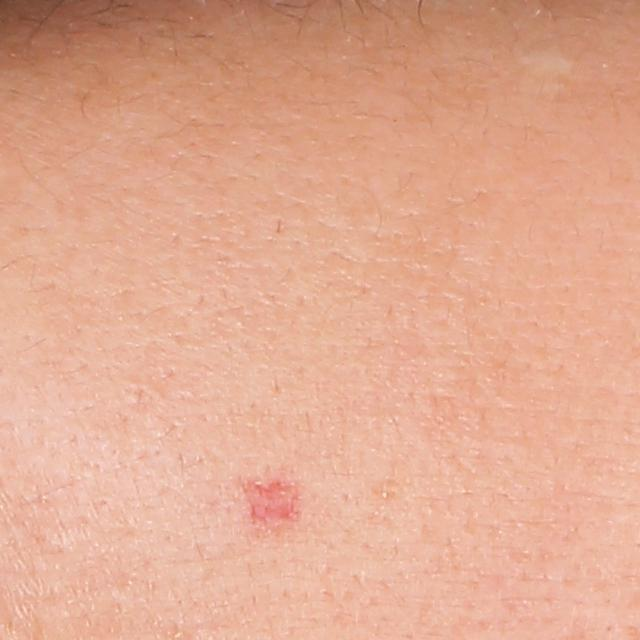other: (234, 471, 316, 536), (509, 43, 580, 80)
